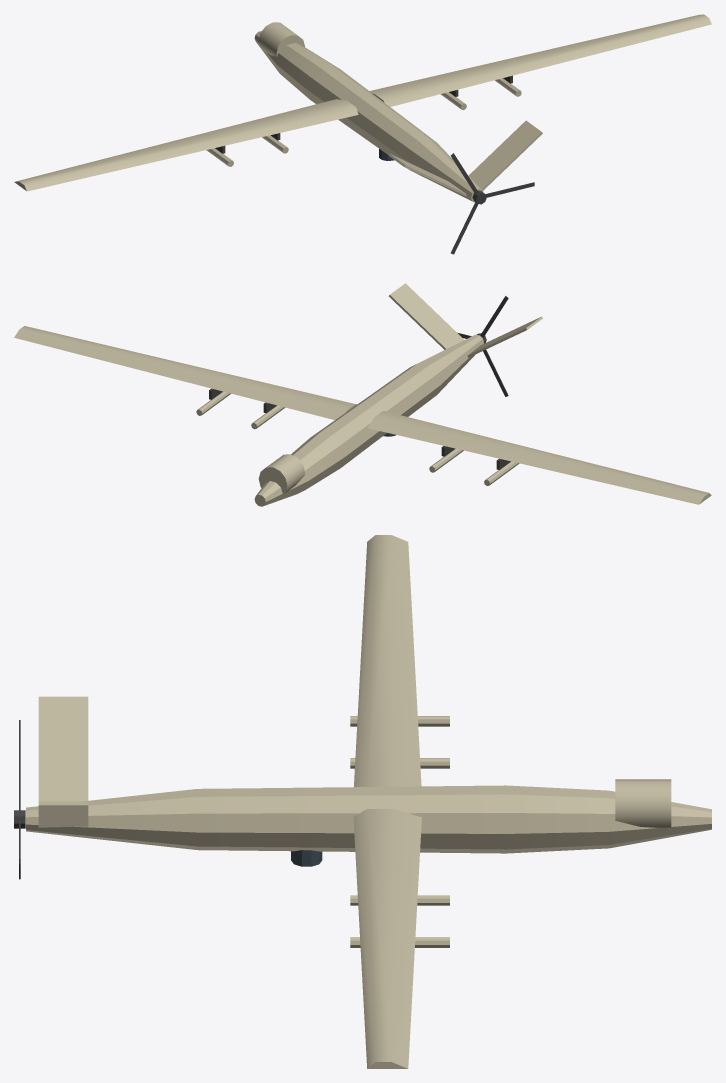
The model's file is usa_uav_mq9.glb.
3 views of the same model, one above another, from view 1: azimuth 30°, elevation 25°; view 2: azimuth 150°, elevation 25°; view 3: azimuth 270°, elevation 25° (orthographic). The views are drawn at different scales.
Parts seen in each view (by area): view 1: body; view 2: body; view 3: body.
Boxes of the visible parts, x1=… form: body: x1=14, y1=14, x2=711, y2=254; body: x1=14, y1=283, x2=711, y2=506; body: x1=14, y1=535, x2=711, y2=1068.
Bounding box in the file's own units: 16.1 × 2.27 × 9.01.
